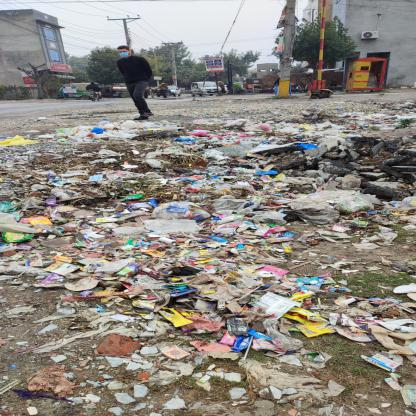Garbage: (4, 118, 416, 356)
